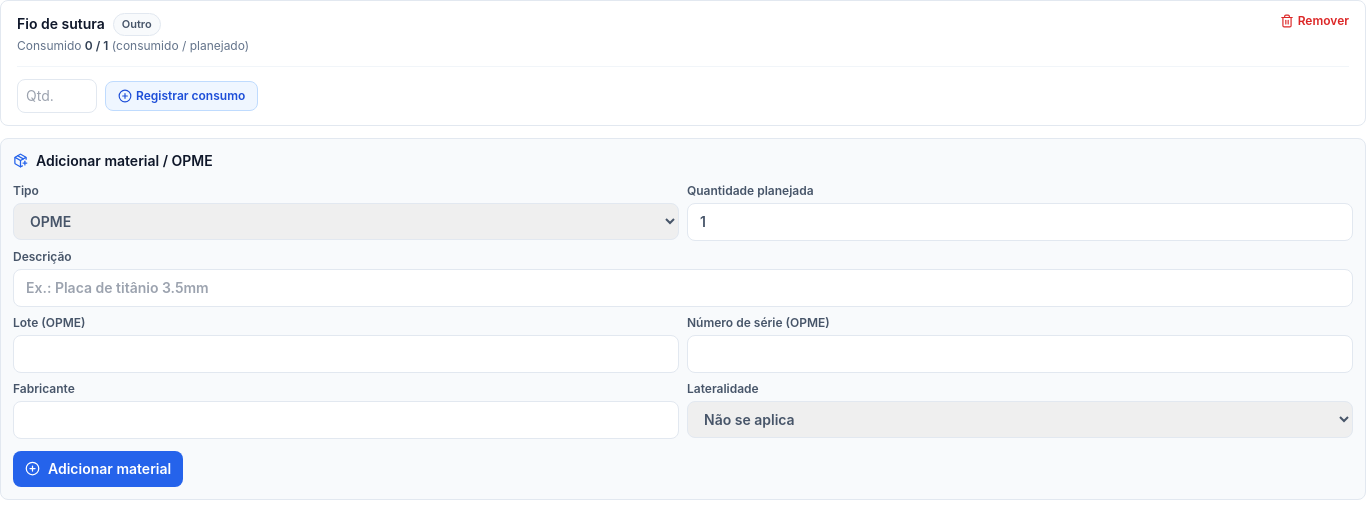
Test case: SurgeryMaterialsPanel › removes a material (DELETE) and reloads
Expected: the text "Fio de sutura" is shown, [17,14,105,34]
Step 1. Click the button with aria-label "Remover Fio de sutura" → (1314, 21), box [1280,13,1349,29]
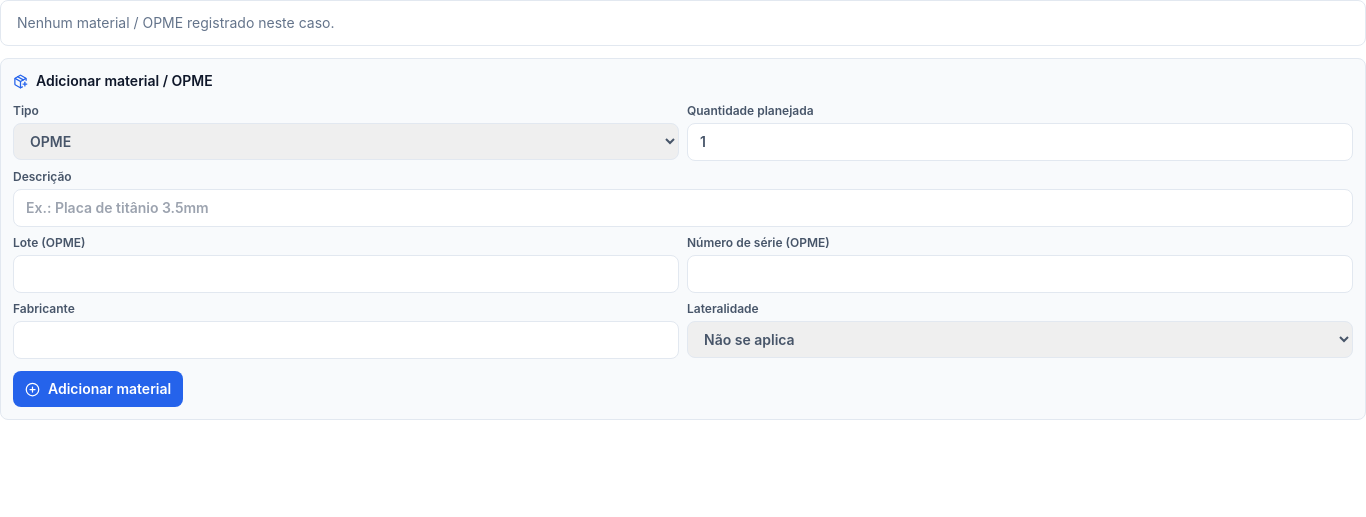
Expected: the text "Fio de sutura" is gone
